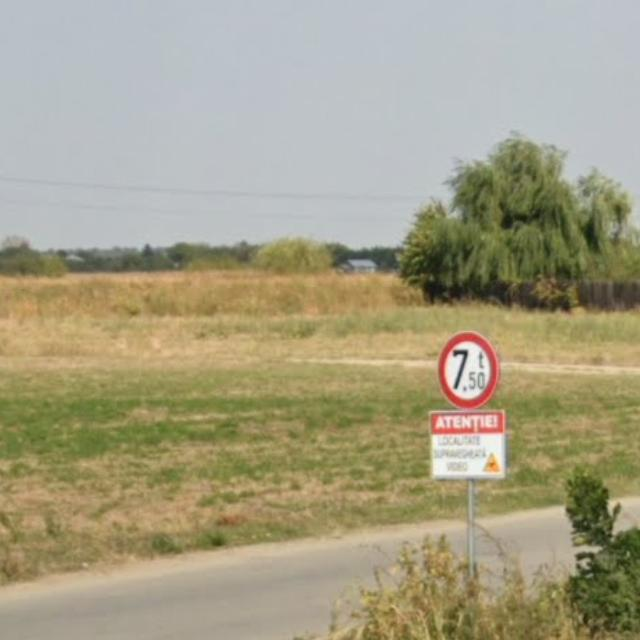forb_weight_over_7.5t: (438, 332, 500, 409)
